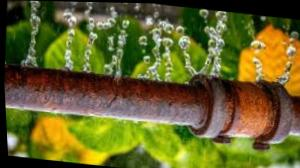leak: (18, 1, 299, 87)
